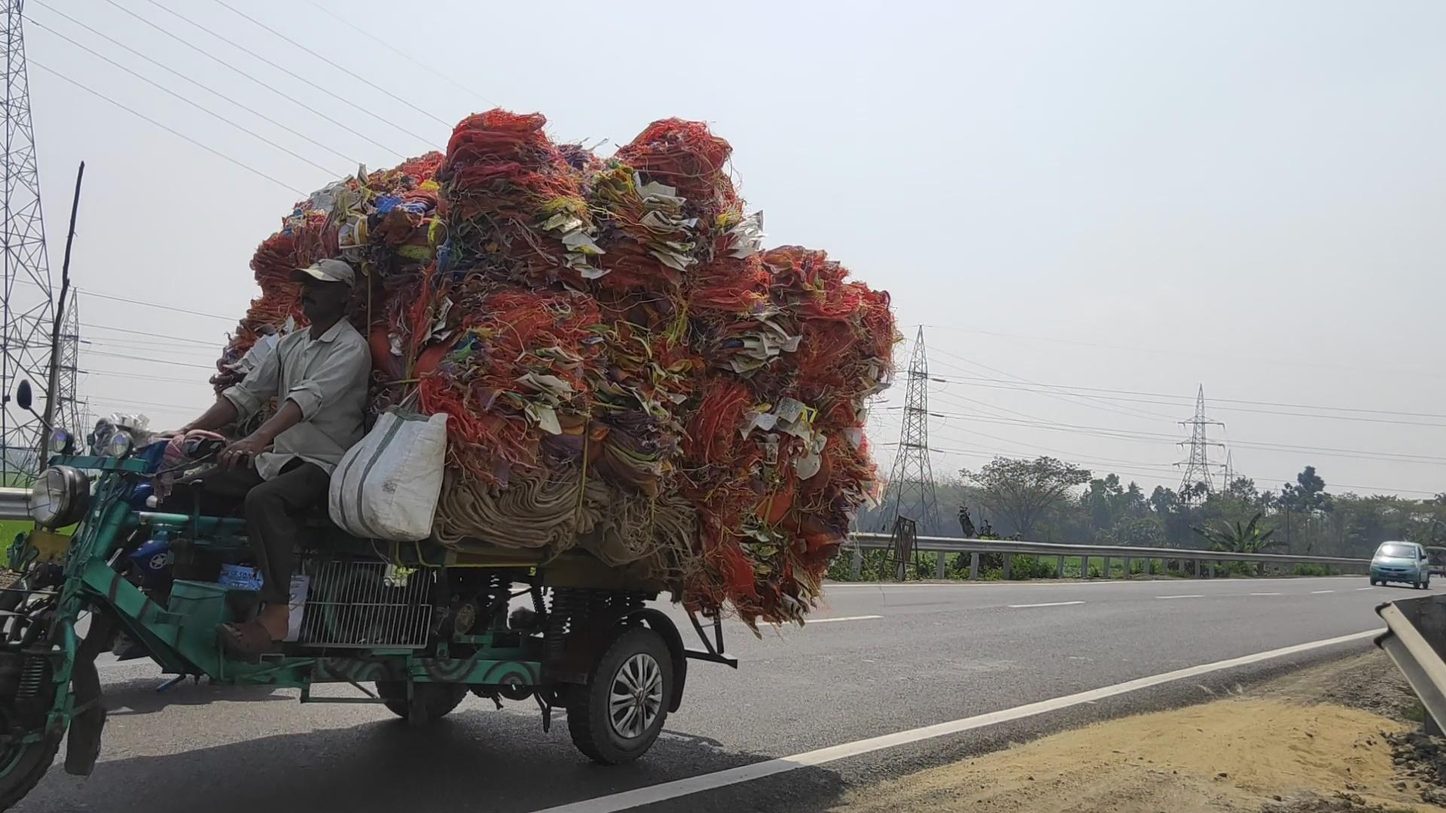car: (1369, 541, 1430, 590)
